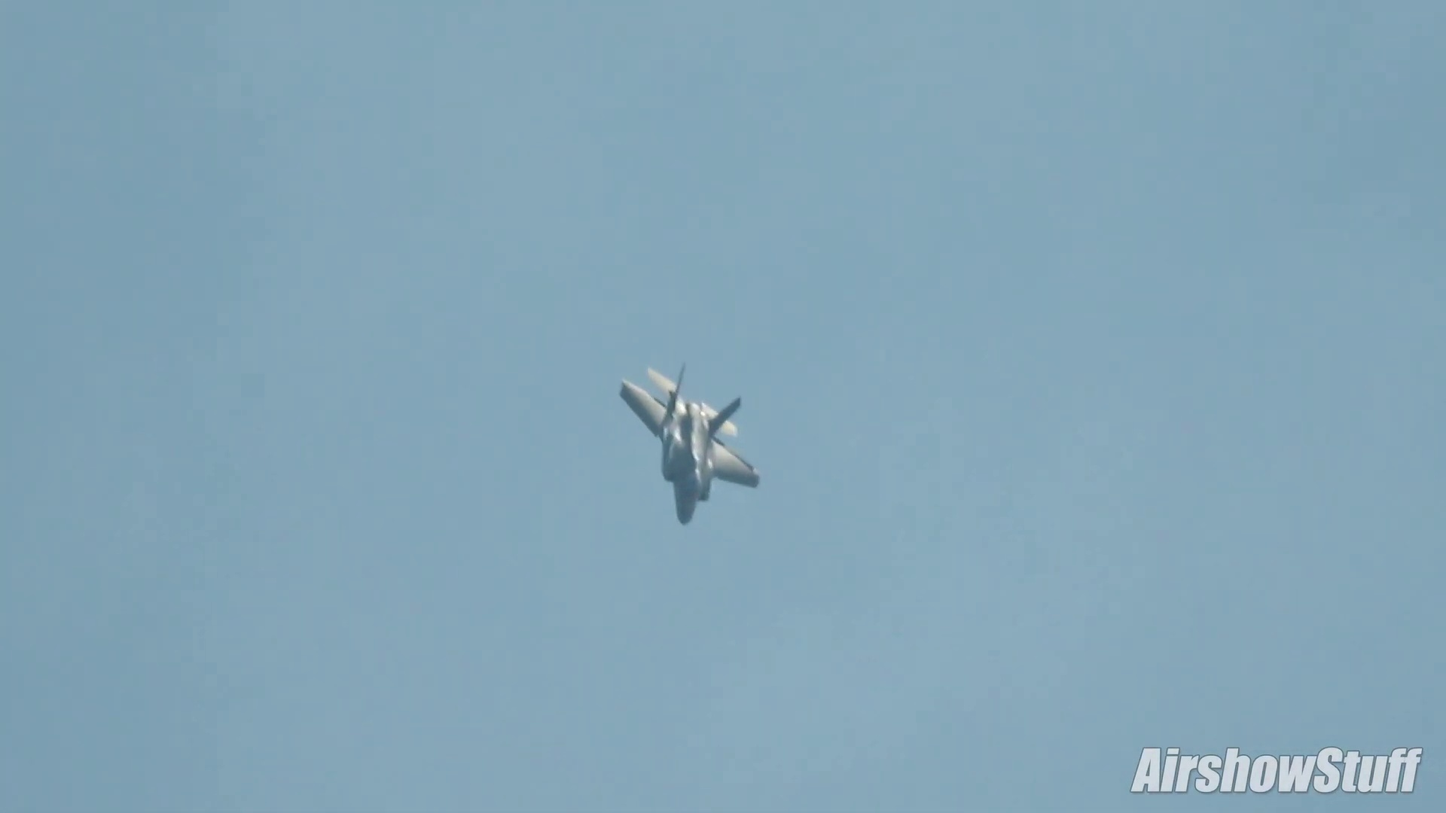F35: (616, 369, 764, 528)
